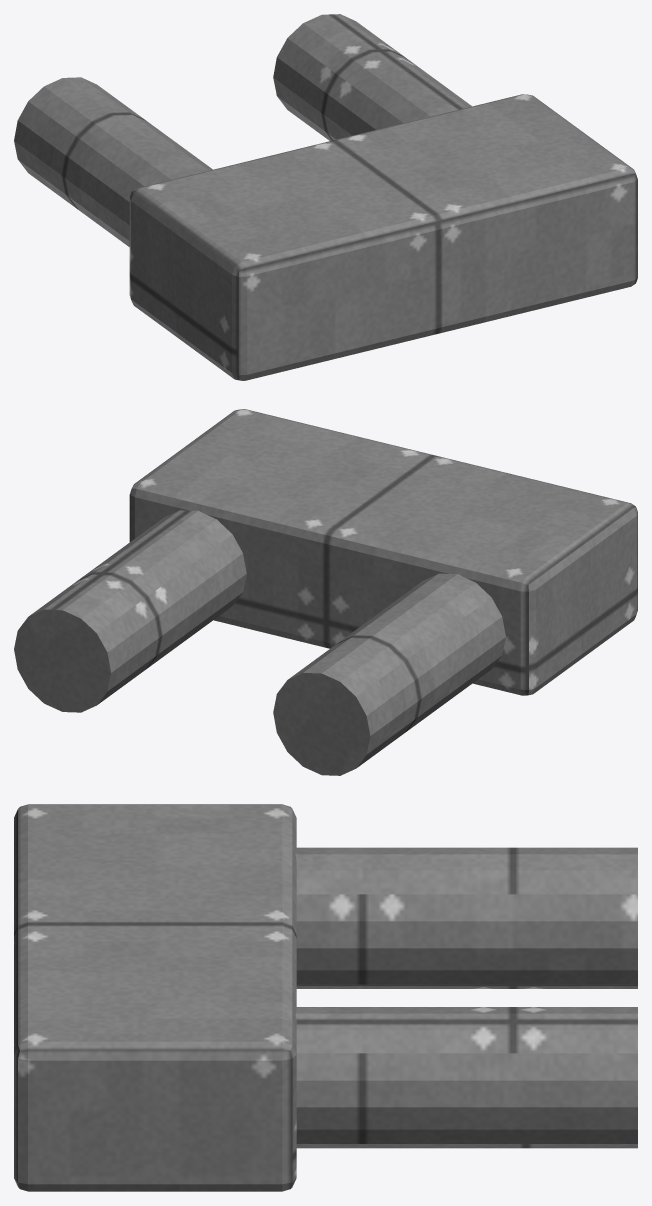
The model's file is attach_4.glb.
3 renders of one model, top to bottom at view 1: azimuth 30°, elevation 25°; view 2: azimuth 150°, elevation 25°; view 3: azimuth 270°, elevation 25°, orthographic. The views are drawn at different scales.
Parts seen in each view (by area): view 1: attach_4; view 2: attach_4; view 3: attach_4.
Boxes of the visible parts, <box> form: attach_4: <box>14,14,637,380</box>; attach_4: <box>14,409,637,775</box>; attach_4: <box>14,804,637,1191</box>.
Size of the model in its own units: 0.5 by 0.14 by 0.53.
1 material, 1 textured.
